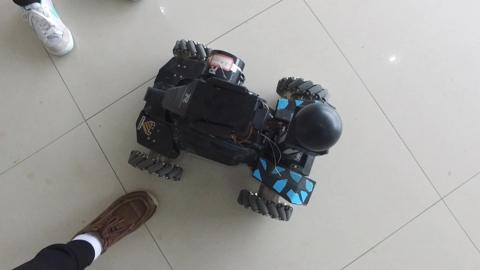chariot: (116, 29, 351, 216)
